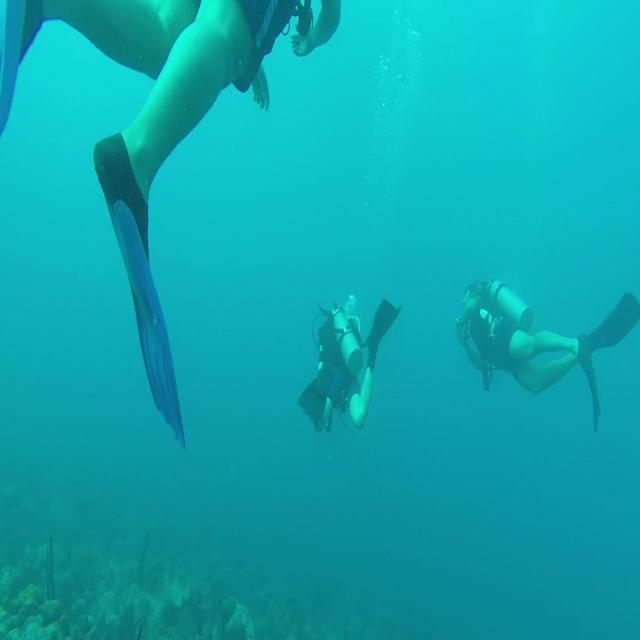human: (0, 0, 342, 449), (455, 277, 639, 432), (296, 294, 402, 434)
